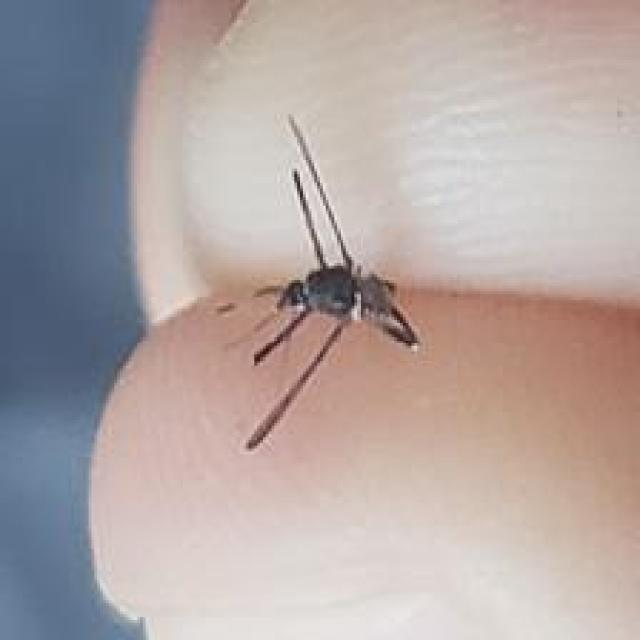Aedes albopictus: (234, 111, 423, 452)
